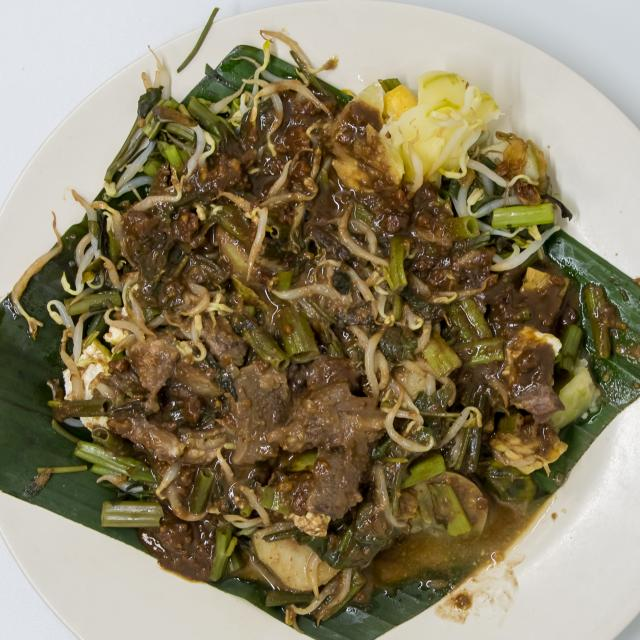Rujak-Cingur: (45, 23, 600, 622)
